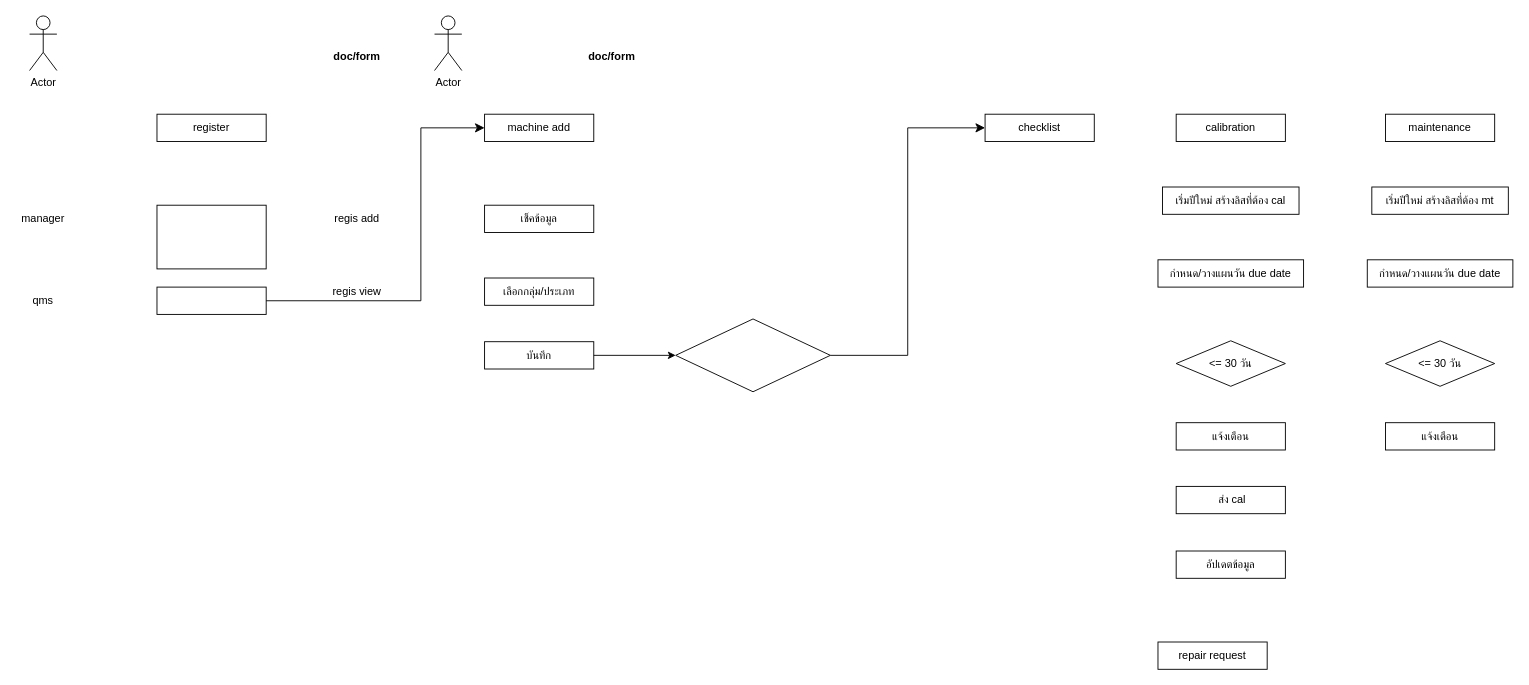
The diagram is 1529 pixels wide and 685 high, and some of its shapes have lost their labels. Here are the shapes that lost their labels. From the top down, the centre of each, then its label:
At point (211, 236): "กรอกฟอร์ม - general -cal -mt".
At point (211, 300): "เพิ่มรายการ".
At point (752, 355): "ต้องตรวจรายสัปดาห์ ?".
